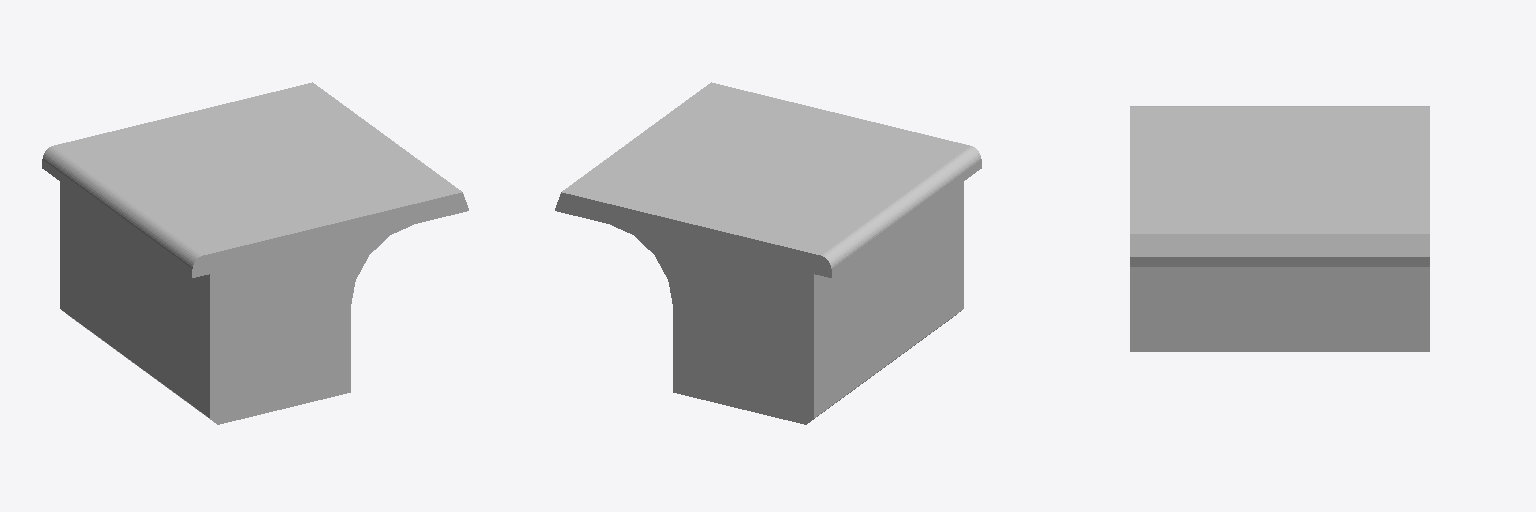
Rendered from counter.obj.
3 renders of one model, left to right at view 1: azimuth 30°, elevation 25°; view 2: azimuth 150°, elevation 25°; view 3: azimuth 270°, elevation 25°, orthographic.
Visible parts, largest first — view 1: standard_counter_Cube; view 2: standard_counter_Cube; view 3: standard_counter_Cube.
Boxes of the visible parts, box(x1,y1,x2,y2) form: standard_counter_Cube: box(42, 82, 468, 424); standard_counter_Cube: box(555, 82, 981, 424); standard_counter_Cube: box(1130, 106, 1429, 351).
Size of the model in its own units: 2.13 by 1.27 by 2.